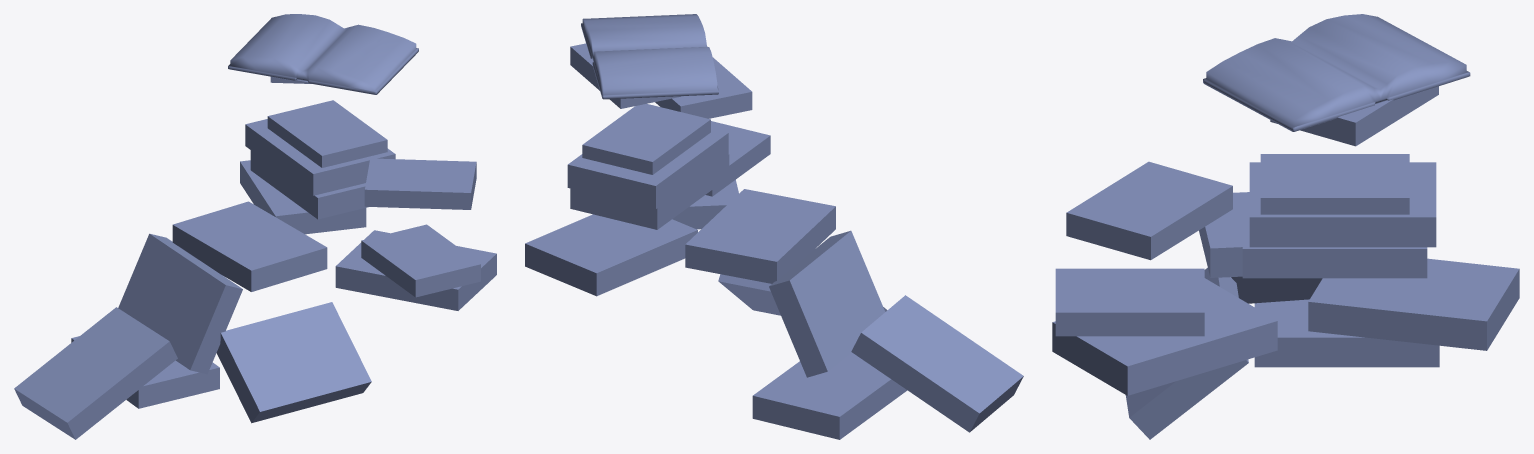
Rendered from Book_Pile_06A_Lod0.fbx.
3 renders of one model, left to right at view 1: azimuth 30°, elevation 25°; view 2: azimuth 150°, elevation 25°; view 3: azimuth 270°, elevation 25°, orthographic. The views are drawn at different scales.
Visible parts, largest first — view 1: Book_Pile_06A_Lod0; view 2: Book_Pile_06A_Lod0; view 3: Book_Pile_06A_Lod0.
Part boxes in pixels (box(x1,y1,x2,y2)): Book_Pile_06A_Lod0: box(14, 14, 496, 439); Book_Pile_06A_Lod0: box(525, 14, 1023, 439); Book_Pile_06A_Lod0: box(1052, 14, 1519, 439).
Size of the model in its own units: 110 by 76.36 by 79.77.
